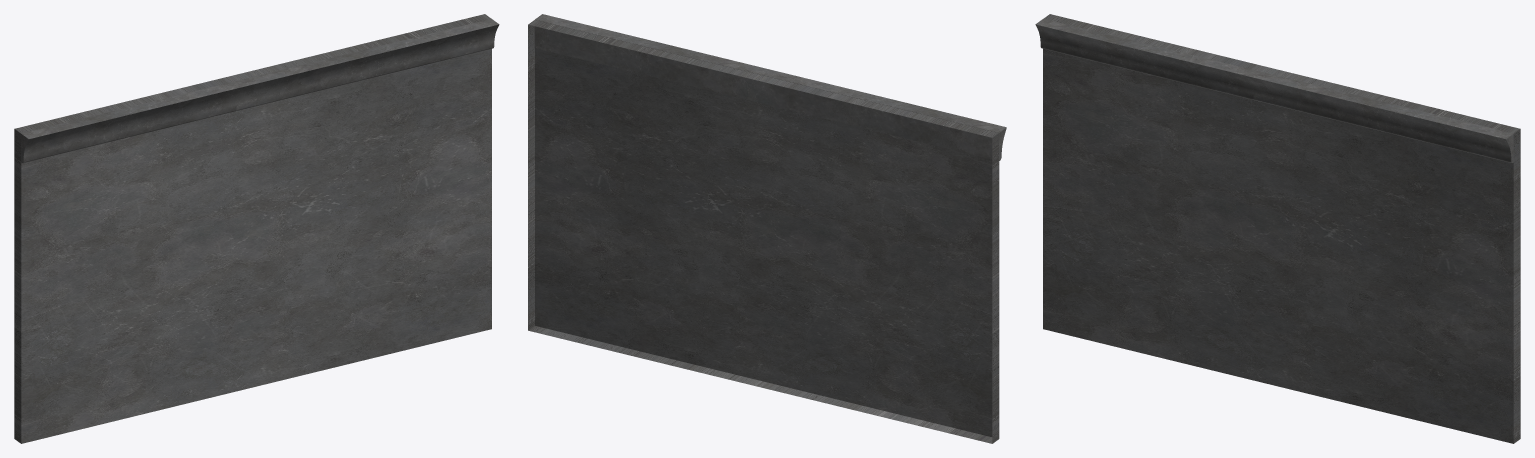
The model's file is demon carve.fbx.
3 views of the same model, side by side, from view 1: azimuth 30°, elevation 25°; view 2: azimuth 150°, elevation 25°; view 3: azimuth 330°, elevation 25° (orthographic).
Parts seen in each view (by area): view 1: Cube.011; view 2: Cube.011; view 3: Cube.011.
Part boxes in pixels (x1,y1,x2,y2): Cube.011: (14,14,499,443); Cube.011: (528,14,1006,443); Cube.011: (1035,14,1520,443).
Size of the model in its own units: 1111 by 700 by 59.27.
